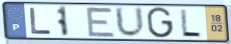1: (55, 5, 71, 38)
E: (84, 6, 117, 39)
G: (146, 6, 175, 40)
L: (179, 8, 204, 39), (27, 7, 53, 36)
U: (113, 5, 148, 39)
